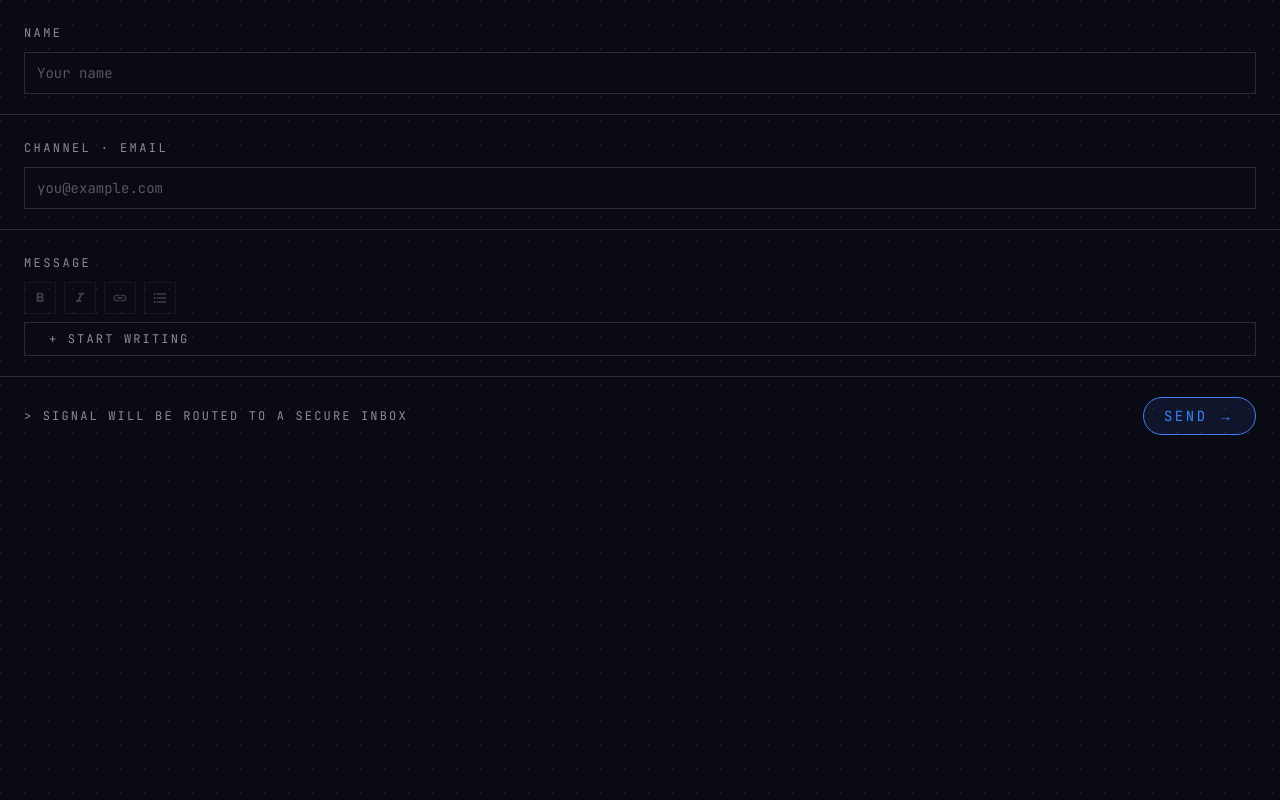
Scenario: ContactForm › shows the server error message
The width and height of the screenshot is (1280, 800).
Type "A" into the field labelled "Name".
click(640, 73); type("A")  # box [24,52,1256,94]
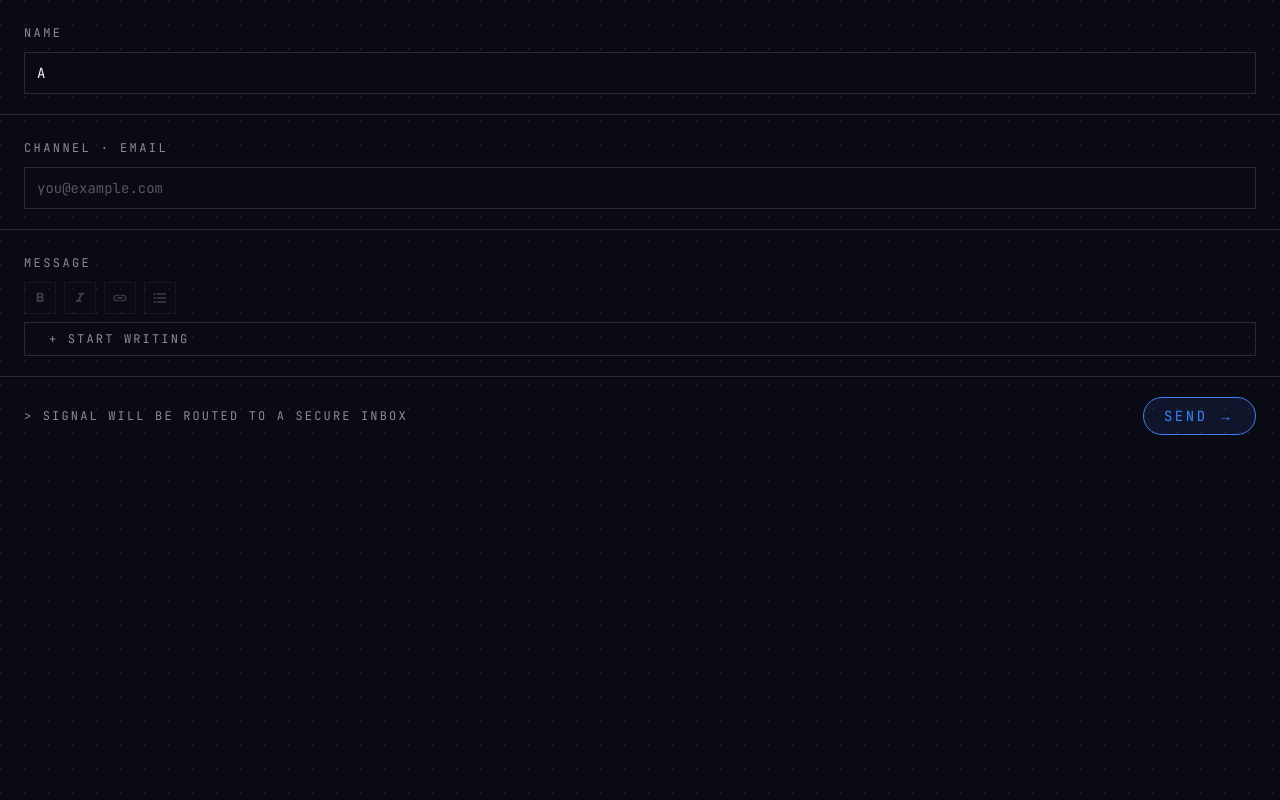
Type "a@b.co" into the field labelled "Channel · Email".
click(640, 188); type("a@b.co")  # box [24,167,1256,209]
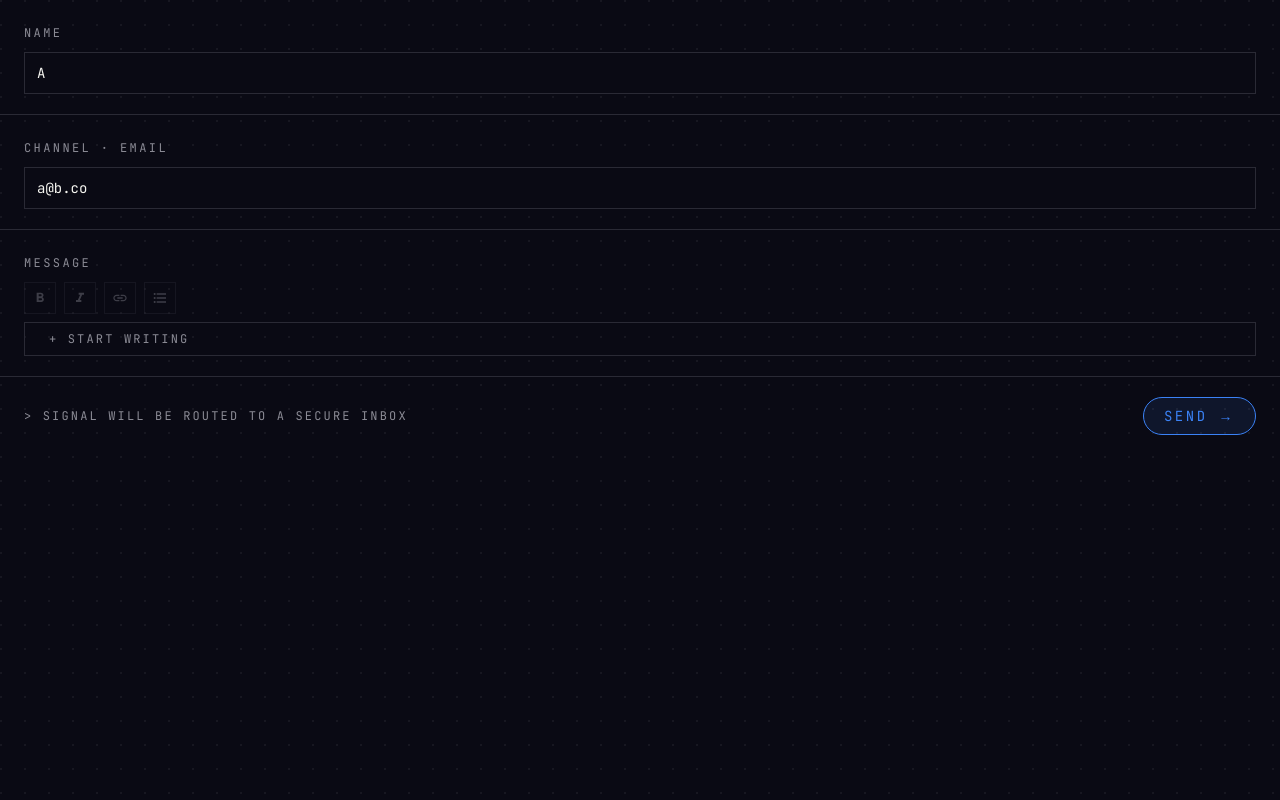
Click the button "+ start writing".
click(119, 339)  # box [37,331,1243,347]
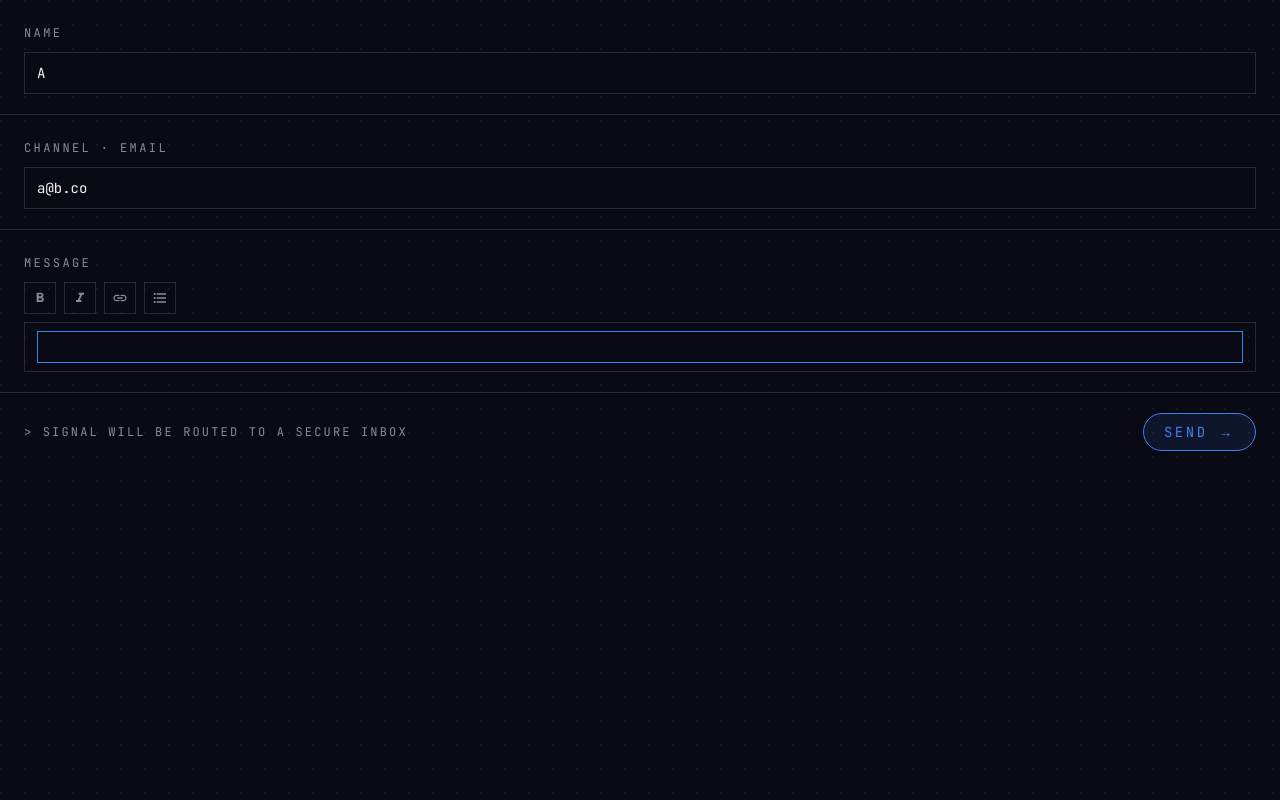
Type "hi" into the text box named "block editor".
click(640, 347); type("hi")  # box [37,331,1243,363]
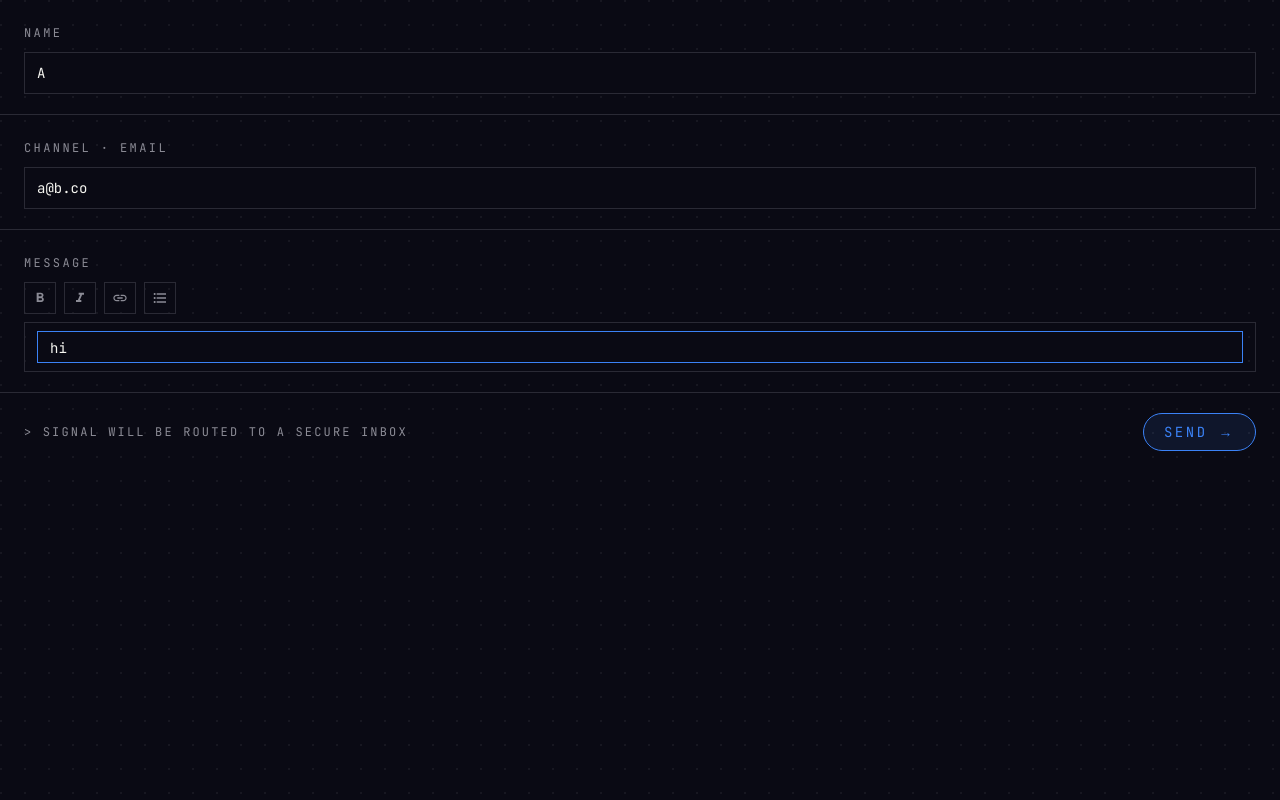
Submit the form "send", box [0,0,1279,471]
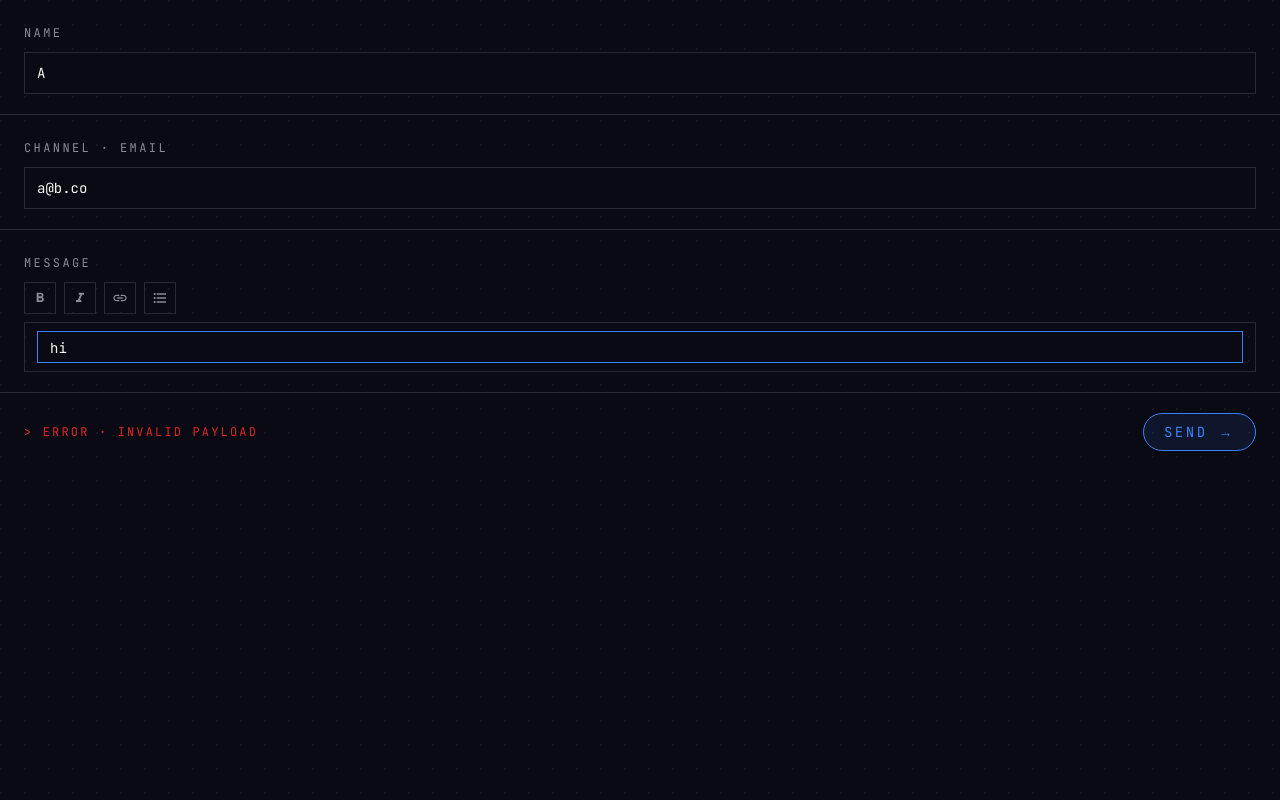
Check: the text "> error · Invalid payload" is shown, box [24,424,258,440]
